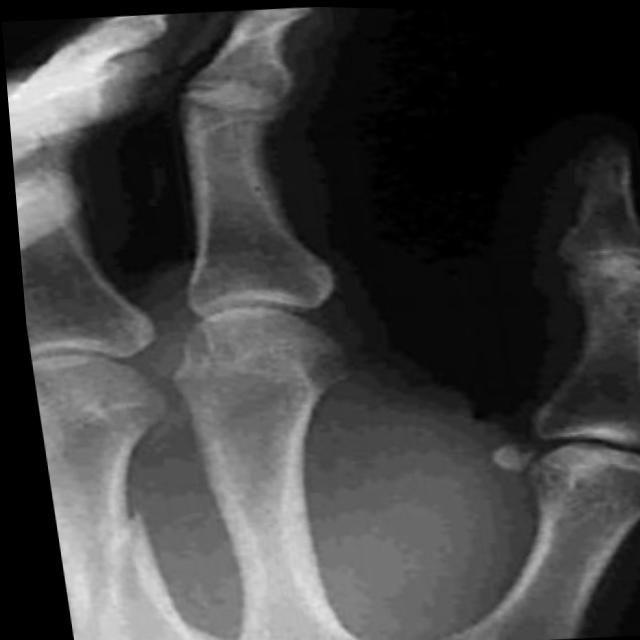fracture: (69, 490, 161, 582)
